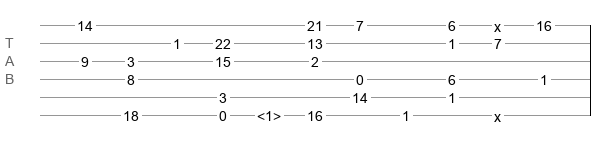0: (219, 108, 227, 118), (356, 72, 364, 82)
1: (173, 36, 181, 46), (402, 108, 410, 118), (448, 36, 456, 46), (448, 90, 456, 100), (540, 72, 548, 82)
13: (307, 36, 323, 46)
14: (77, 18, 93, 28), (352, 90, 368, 100)
15: (215, 54, 231, 64)
16: (307, 108, 323, 118), (536, 18, 552, 28)
18: (123, 108, 139, 118)
2: (311, 54, 319, 64)
21: (307, 18, 323, 28)
22: (215, 36, 231, 46)
3: (127, 54, 135, 64), (219, 90, 227, 100)
6: (448, 72, 456, 82), (448, 18, 456, 28)
7: (356, 18, 364, 28), (494, 36, 502, 46)
8: (127, 72, 135, 82)
9: (81, 54, 89, 64)
harmonic: (257, 108, 281, 118)
x: (494, 109, 501, 117), (494, 19, 501, 27)
